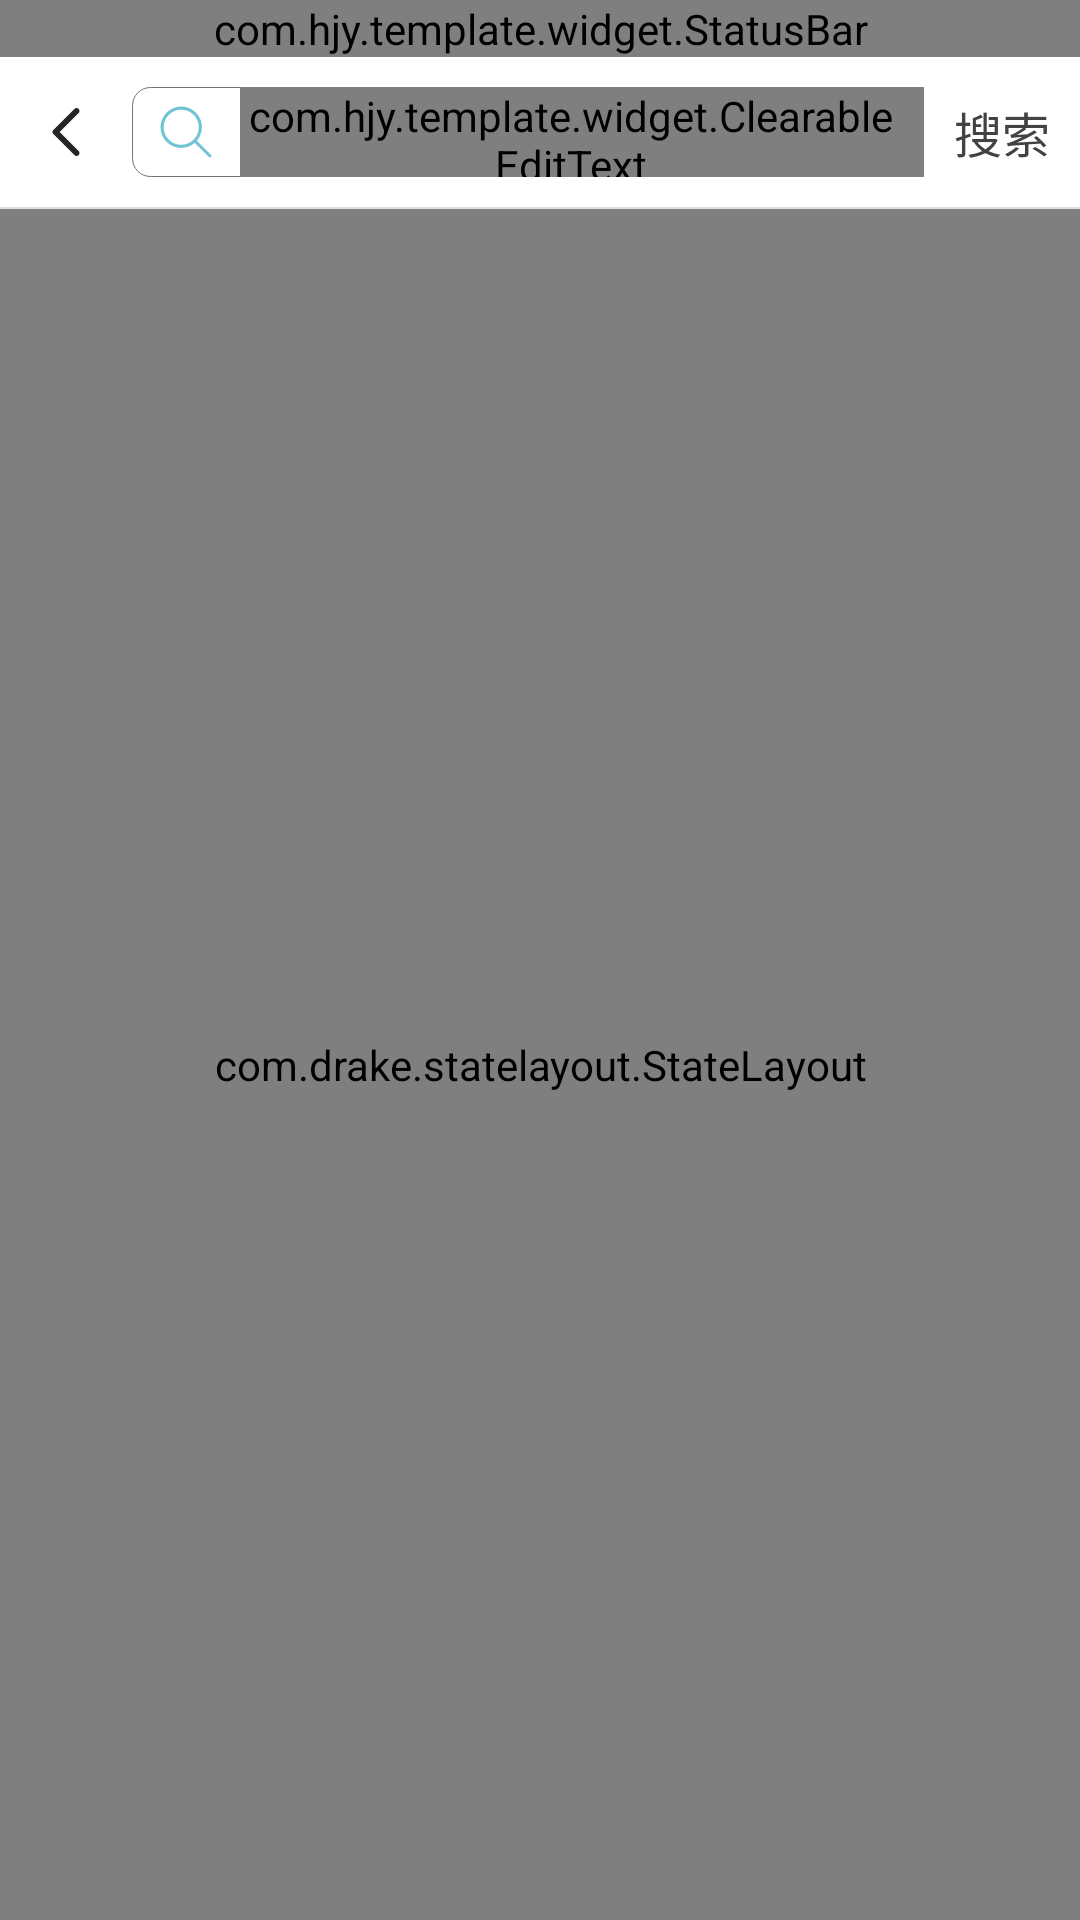

Screen size 1080×1920. Icon name, then its center in pixels as (x,y):
back arrow: (66,132)
search: (186,132)
